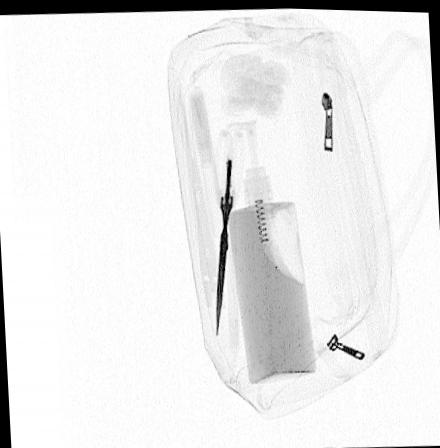Scissors: (212, 119, 259, 342)
